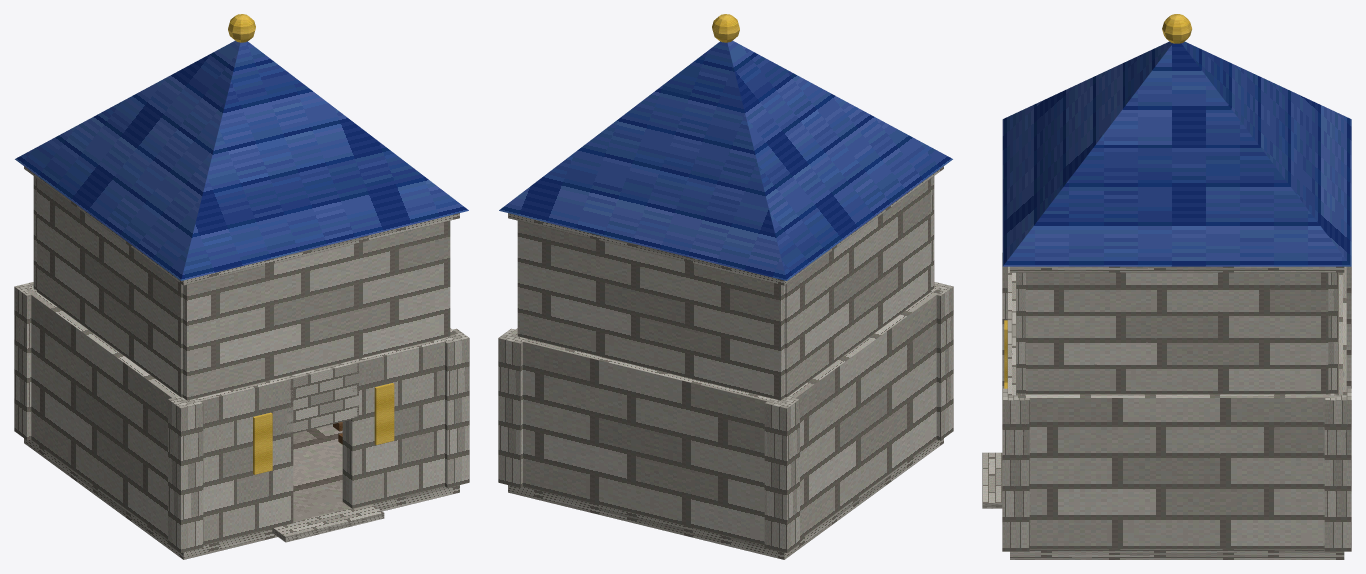
File: torre_do_diretorio.glb
The picture shows the model from 3 angles, left to right: view 1: azimuth 30°, elevation 25°; view 2: azimuth 150°, elevation 25°; view 3: azimuth 270°, elevation 25°; orthographic projection. The views are drawn at different scales.
Parts seen in each view (by area): view 1: Roof_Upper_Tower, Walls_Lower, Floor_Ground; view 2: Roof_Upper_Tower, Walls_Lower, Floor_Ground; view 3: Roof_Upper_Tower, Walls_Lower, Floor_Ground.
Boxes of the visible parts, left/top/right/bottom form: Roof_Upper_Tower: left=15, top=14, right=468, bottom=400; Walls_Lower: left=14, top=282, right=469, bottom=552; Floor_Ground: left=24, top=424, right=459, bottom=559; Roof_Upper_Tower: left=499, top=14, right=952, bottom=400; Walls_Lower: left=498, top=282, right=953, bottom=552; Floor_Ground: left=508, top=438, right=943, bottom=559; Roof_Upper_Tower: left=1002, top=14, right=1351, bottom=394; Walls_Lower: left=1002, top=253, right=1351, bottom=551; Floor_Ground: left=982, top=452, right=1344, bottom=559.
Size of the model in its own units: 8.78 by 13.15 by 9.29.
1 material, 1 textured.
